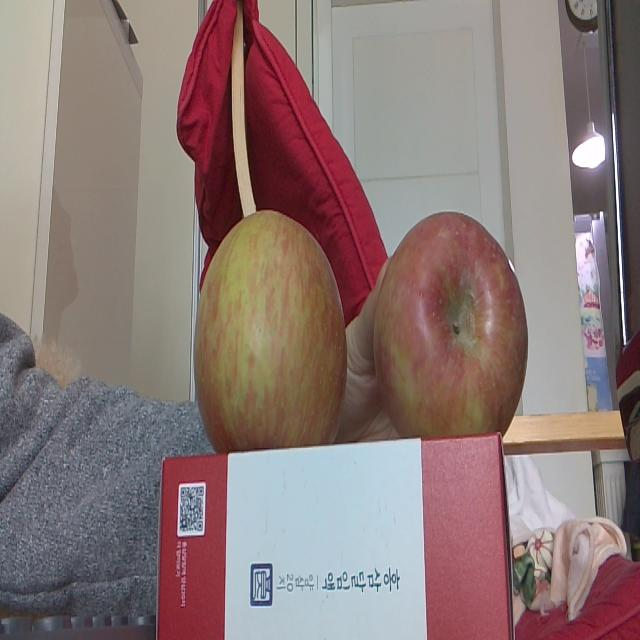apple: (194, 212, 348, 444), (372, 212, 530, 433)
